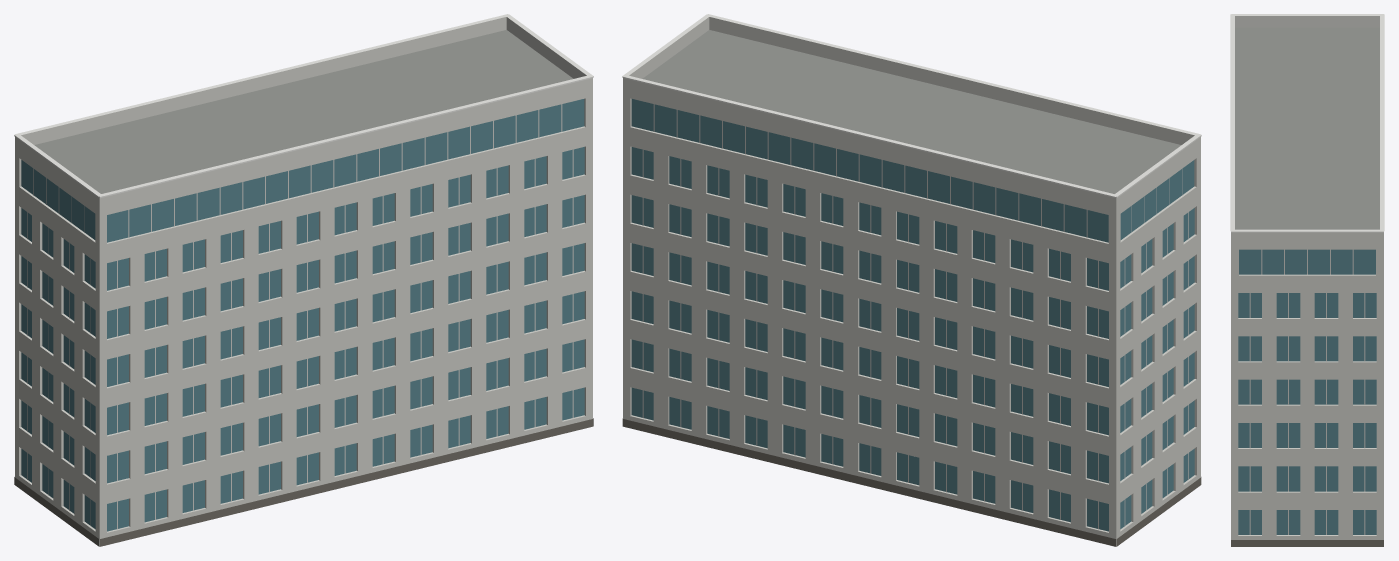
3 views of the same model, side by side, from view 1: azimuth 30°, elevation 25°; view 2: azimuth 150°, elevation 25°; view 3: azimuth 270°, elevation 25° (orthographic). The views are drawn at different scales.
Visible parts, largest first — view 1: northAnnex__wall, northAnnex__glass, northAnnex__roof, northAnnex__parapet, northAnnex__frame, northAnnex__base, northAnnex__trim; view 2: northAnnex__wall, northAnnex__glass, northAnnex__roof, northAnnex__parapet, northAnnex__frame, northAnnex__base, northAnnex__trim; view 3: northAnnex__roof, northAnnex__wall, northAnnex__glass, northAnnex__parapet, northAnnex__trim, northAnnex__frame, northAnnex__base.
Boxes of the visible parts, left/top/right/bottom form: northAnnex__wall: left=15, top=89, right=592, bottom=546; northAnnex__glass: left=21, top=99, right=584, bottom=531; northAnnex__roof: left=34, top=30, right=573, bottom=546; northAnnex__parapet: left=15, top=17, right=592, bottom=209; northAnnex__frame: left=27, top=104, right=573, bottom=529; northAnnex__base: left=14, top=418, right=593, bottom=546; northAnnex__trim: left=14, top=14, right=593, bottom=198; northAnnex__wall: left=623, top=89, right=1200, bottom=546; northAnnex__glass: left=631, top=99, right=1194, bottom=531; northAnnex__roof: left=642, top=30, right=1181, bottom=546; northAnnex__parapet: left=623, top=17, right=1200, bottom=209; northAnnex__frame: left=642, top=104, right=1188, bottom=529; northAnnex__base: left=622, top=418, right=1201, bottom=546; northAnnex__trim: left=622, top=14, right=1201, bottom=198; northAnnex__roof: left=1235, top=27, right=1379, bottom=229; northAnnex__wall: left=1231, top=243, right=1383, bottom=539; northAnnex__glass: left=1238, top=249, right=1376, bottom=534; northAnnex__parapet: left=1231, top=16, right=1383, bottom=242; northAnnex__trim: left=1230, top=14, right=1384, bottom=232; northAnnex__frame: left=1249, top=249, right=1365, bottom=534; northAnnex__base: left=1231, top=540, right=1383, bottom=546.
Size of the model in its own units: 39.79 by 26.92 by 11.93.
